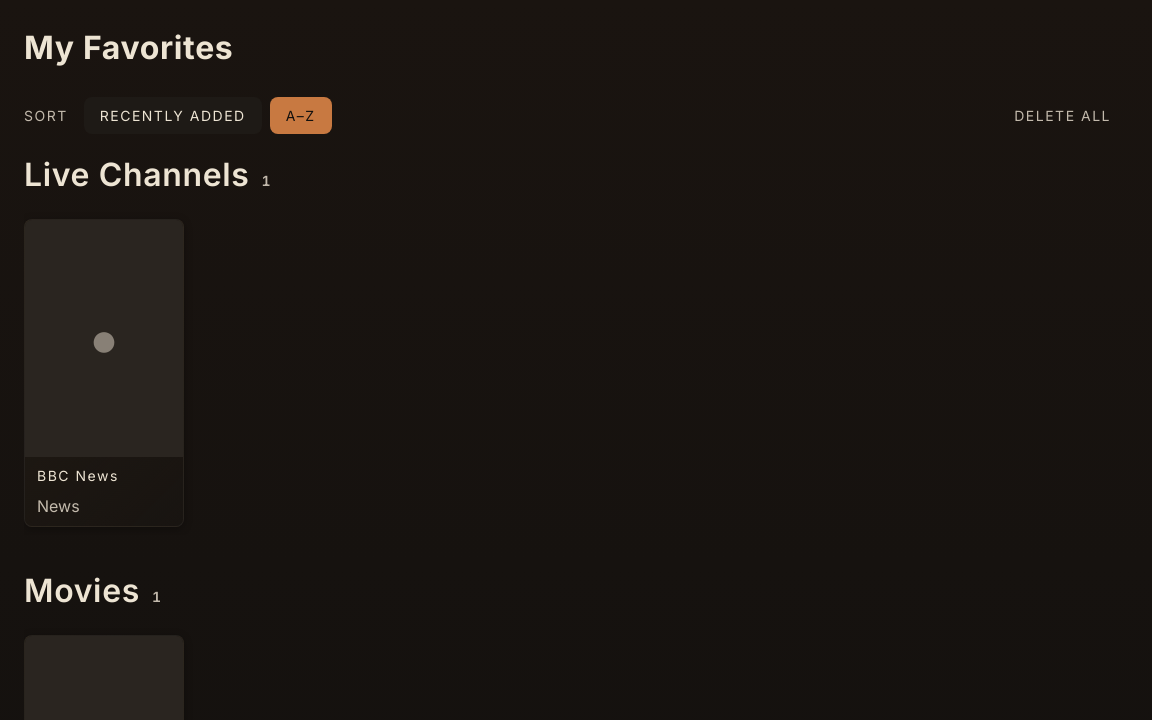
Test: FavoritesRoute › Delete all › clicking Delete all opens the confirm modal
Click the button "Delete all" at (1063, 116), box [997,96,1128,135]
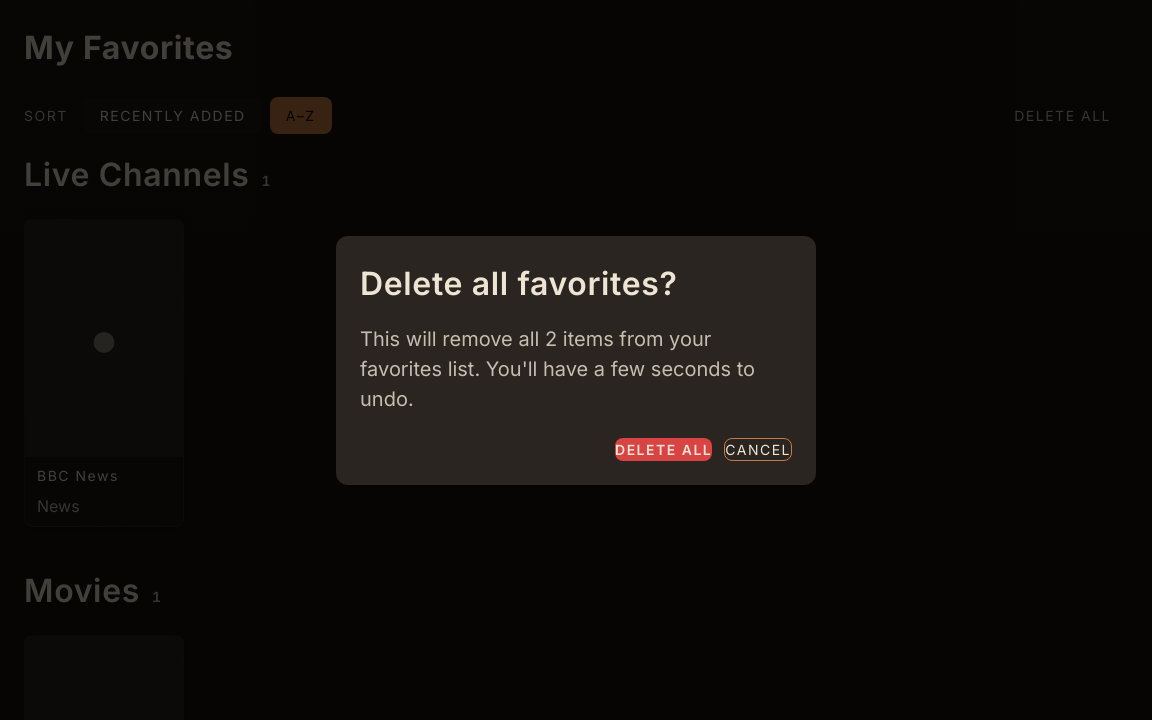
Check: the dialog "Delete all favorites" is shown, box [336,236,816,484]
Check: the text "2 items" is shown, box [360,324,792,414]
